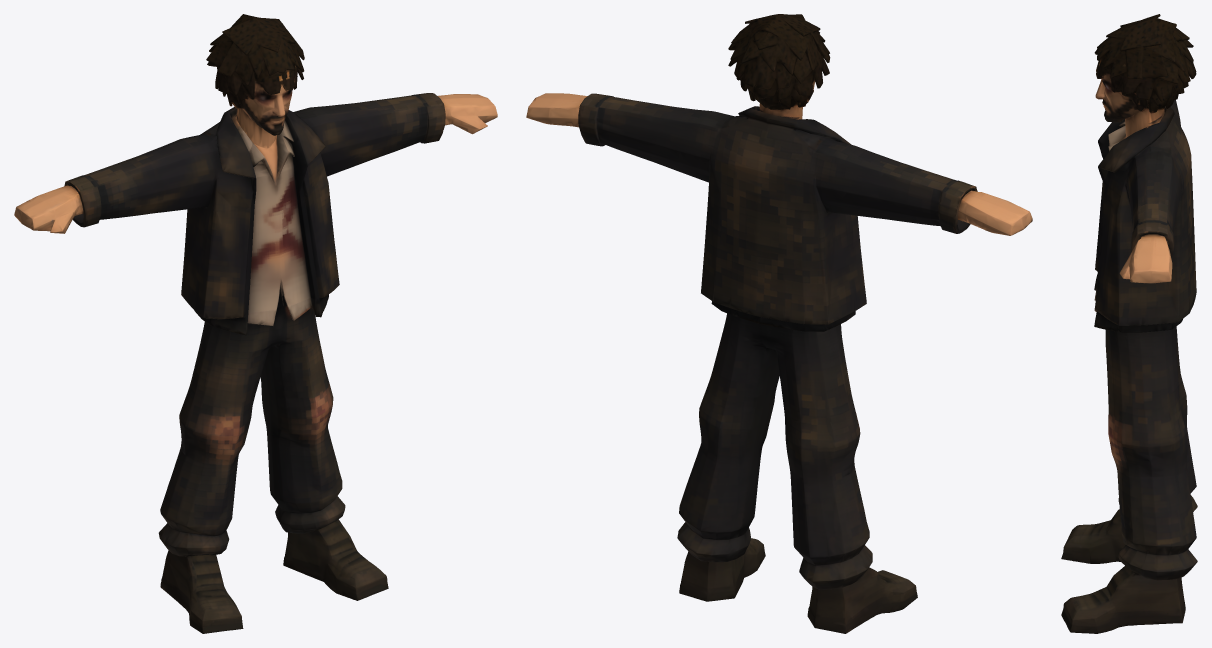
The model's file is Enemy.glb.
The picture shows the model from 3 angles, left to right: view 1: azimuth 30°, elevation 25°; view 2: azimuth 150°, elevation 25°; view 3: azimuth 270°, elevation 25°; orthographic projection. The views are drawn at different scales.
Visible parts, largest first — view 1: node_0; view 2: node_0; view 3: node_0.
Boxes of the visible parts, x1,y1,x2,y2 form: node_0: (14, 14, 497, 633); node_0: (526, 14, 1032, 633); node_0: (1061, 14, 1197, 633).
Bounding box in the file's own units: 0.971 × 1.12 × 0.2441.
Materials: 1 (1 with a texture image).
